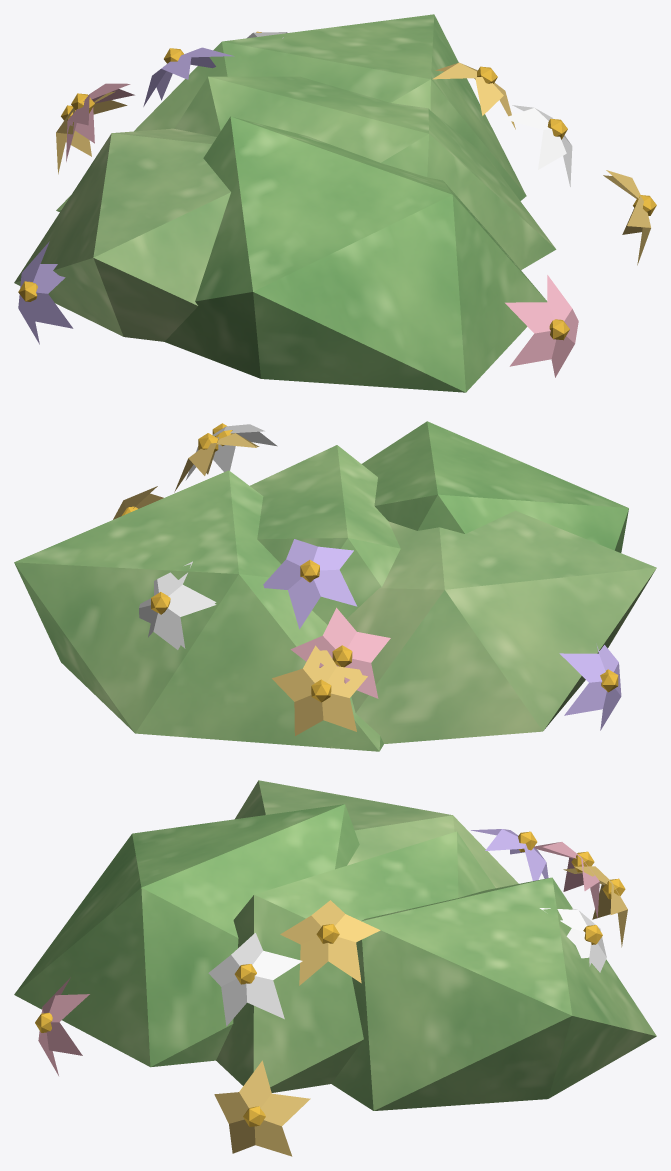
Rendered from shrub_bloom_sky_a.glb.
3 views of the same model, one above another, from view 1: azimuth 30°, elevation 25°; view 2: azimuth 150°, elevation 25°; view 3: azimuth 270°, elevation 25° (orthographic). The views are drawn at different scales.
Parts seen in each view (by area): view 1: shrub_bloom_sky_a; view 2: shrub_bloom_sky_a; view 3: shrub_bloom_sky_a.
Part boxes in pixels (x1,y1,x2,y2): shrub_bloom_sky_a: (14,14,656,392); shrub_bloom_sky_a: (14,421,656,751); shrub_bloom_sky_a: (14,780,656,1156).
Bounding box in the file's own units: 1.35 × 0.4426 × 1.36.
Materials: 2 (1 with a texture image).
